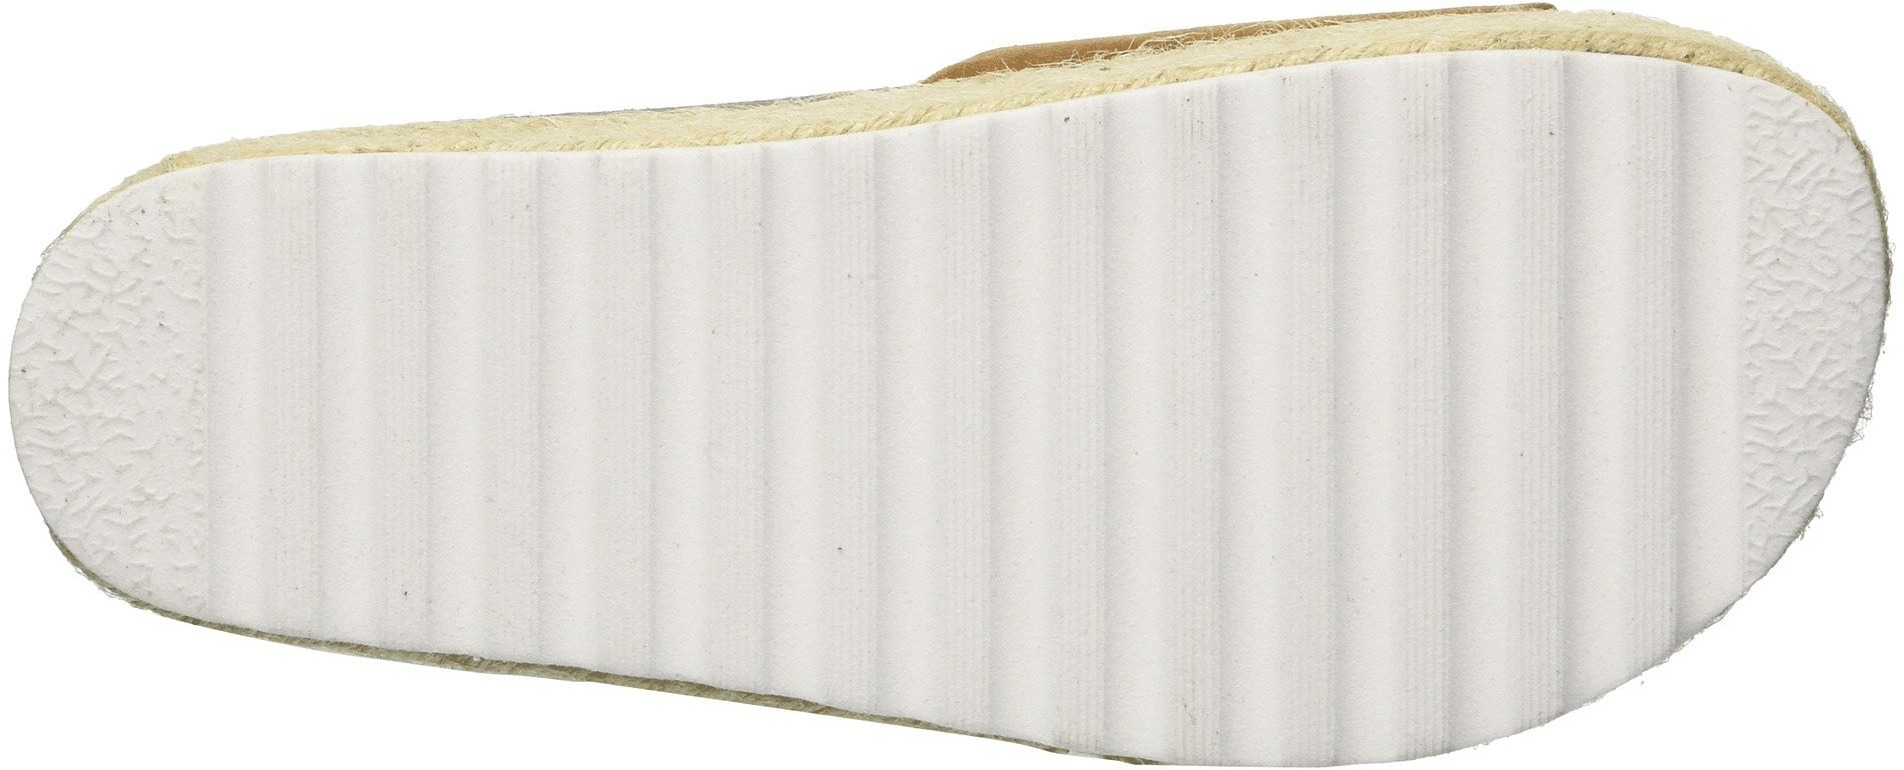other: (25, 290, 220, 479), (1753, 171, 1881, 302)
quad: (1160, 87, 1506, 445), (532, 170, 846, 472), (858, 141, 1161, 441), (1171, 454, 1480, 743), (220, 171, 518, 462), (856, 451, 1164, 717), (1513, 194, 1742, 421), (461, 474, 637, 653)
